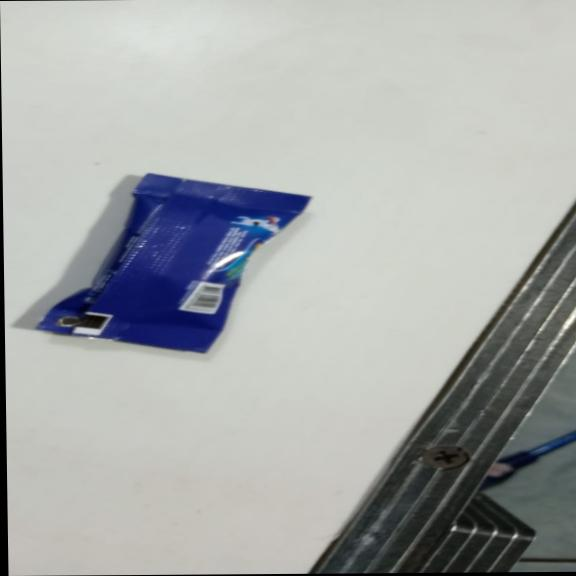Plastik: (33, 171, 313, 354)
